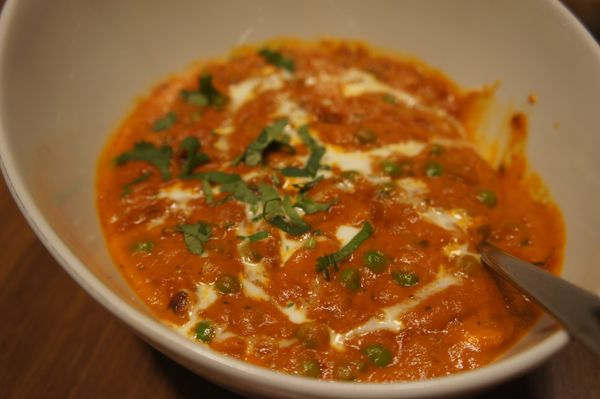sandwich: (478, 240, 600, 364)
sushi: (1, 3, 573, 393)
